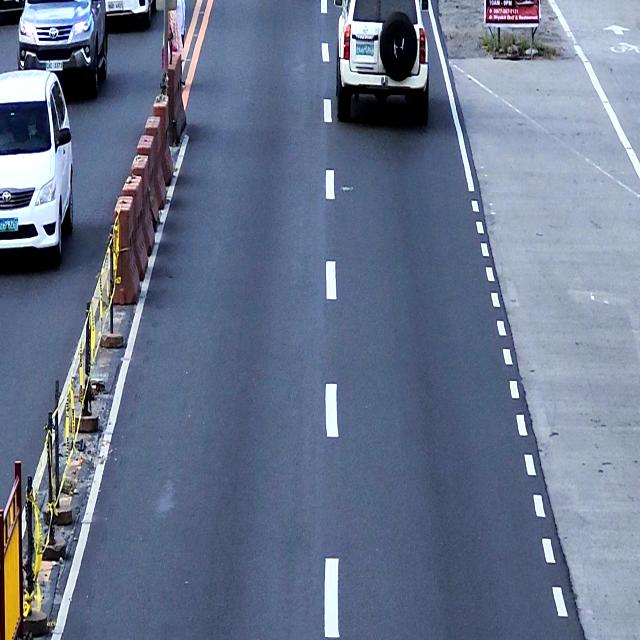Car: (0, 68, 73, 262), (333, 0, 429, 123), (16, 0, 108, 97), (100, 0, 157, 30)
License-Plate: (0, 216, 19, 233), (356, 42, 374, 57), (45, 59, 64, 71), (108, 1, 124, 12)
